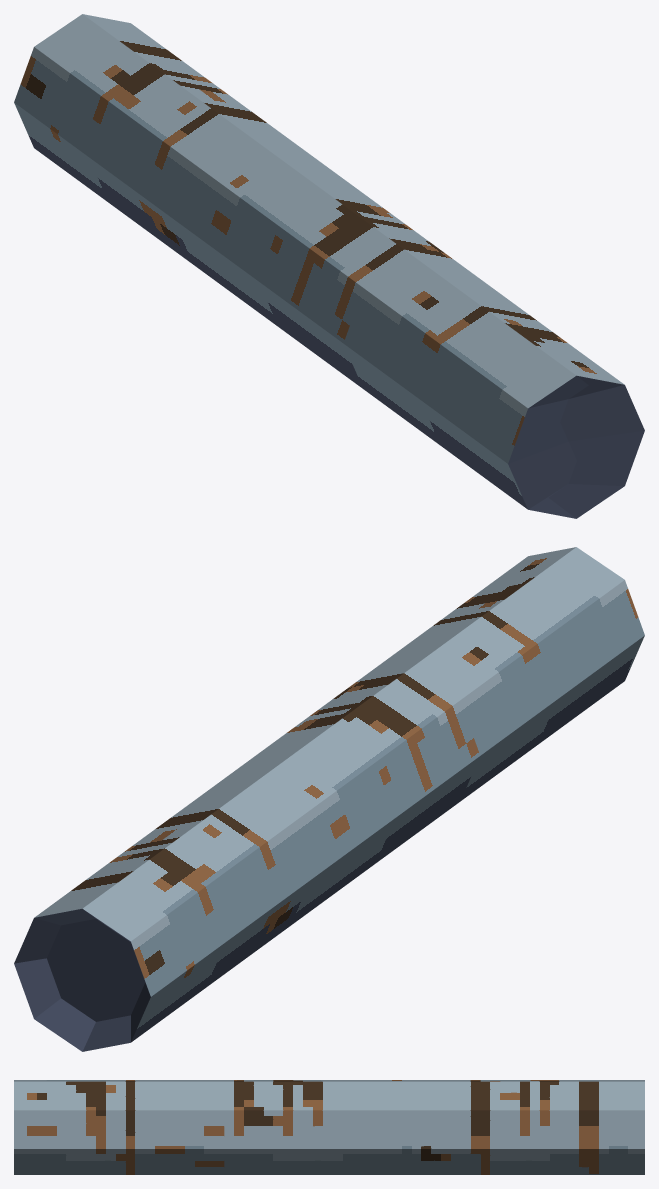
The model's file is IND-04_Tubo_recto_b.gltf.
The picture shows the model from 3 angles, top to bottom: view 1: azimuth 30°, elevation 25°; view 2: azimuth 150°, elevation 25°; view 3: azimuth 270°, elevation 25°; orthographic projection. The views are drawn at different scales.
Parts seen in each view (by area): view 1: IND-04_Tubo_recto_b-convcol; view 2: IND-04_Tubo_recto_b-convcol; view 3: IND-04_Tubo_recto_b-convcol.
Part boxes in pixels (box(x1,y1,x2,y2)): IND-04_Tubo_recto_b-convcol: box(14, 14, 644, 518); IND-04_Tubo_recto_b-convcol: box(14, 547, 644, 1051); IND-04_Tubo_recto_b-convcol: box(14, 1080, 644, 1174).
Bounding box in the file's own units: 0.32 × 0.32 × 2.
1 material, 1 textured.
